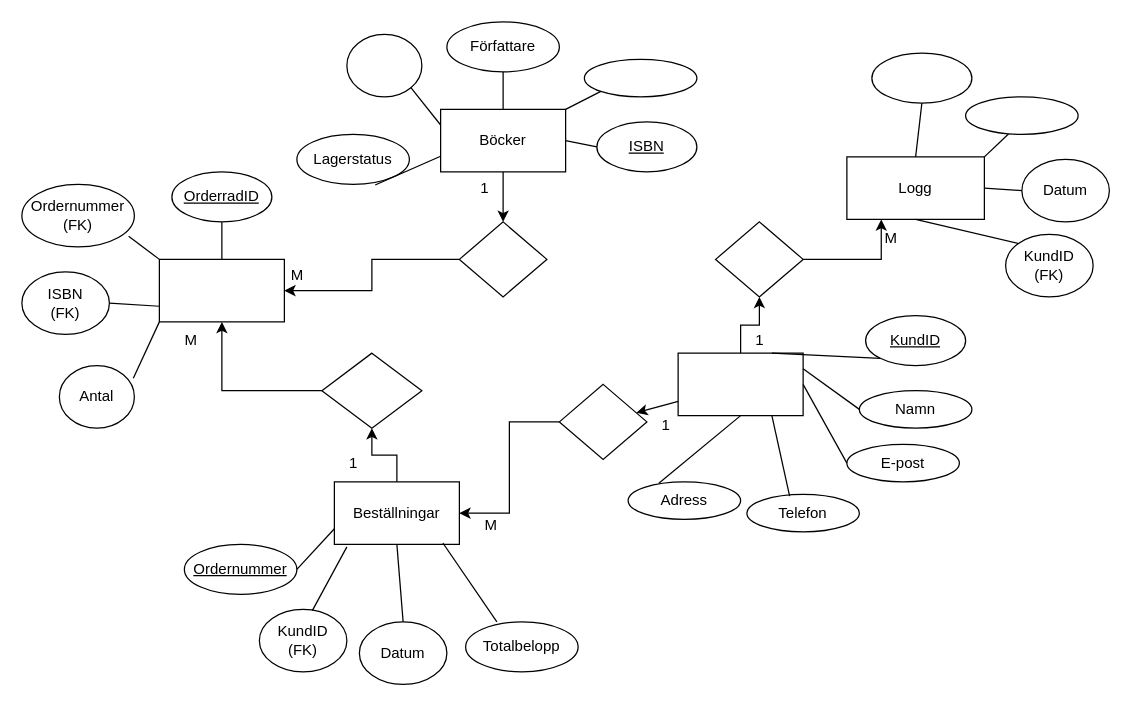
Image size: 1131x706. Some labels were removed from this diagram. Each missing label, with the centre of its shape:
"Består av" goes at pixel 502 259.
"Gör" goes at pixel 602 421.
"Har" goes at pixel 758 259.
"Innehåller" goes at pixel 371 390.
"Kunder" goes at pixel 740 384.
"LoggID" goes at pixel 921 77.
"Meddelanden" goes at pixel 1021 115.
"Orderrader" goes at pixel 221 290.
"Pris" goes at pixel 384 65.
"Titel" goes at pixel 640 77.
